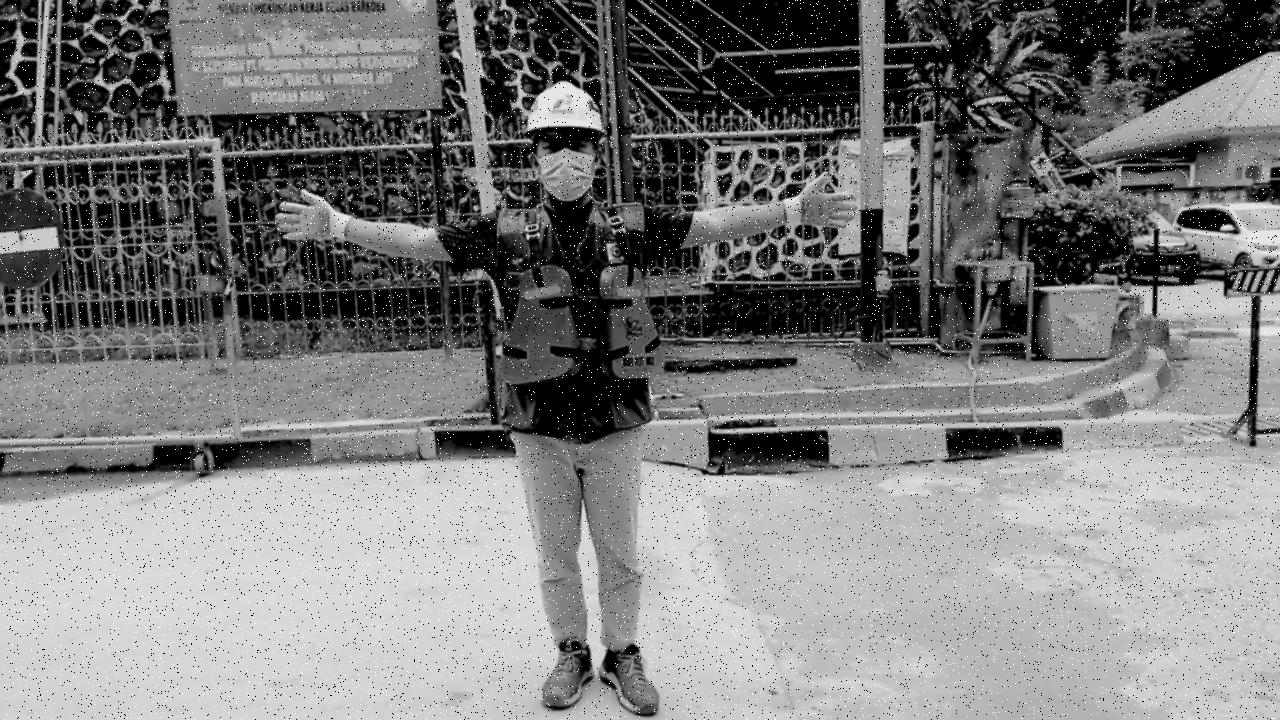gloves: (269, 186, 354, 250), (783, 168, 857, 232)
helmet: (525, 78, 607, 137)
mask: (535, 152, 597, 202)
safety-shoes: (596, 642, 664, 717), (536, 636, 598, 712)
vest: (494, 262, 668, 391)
